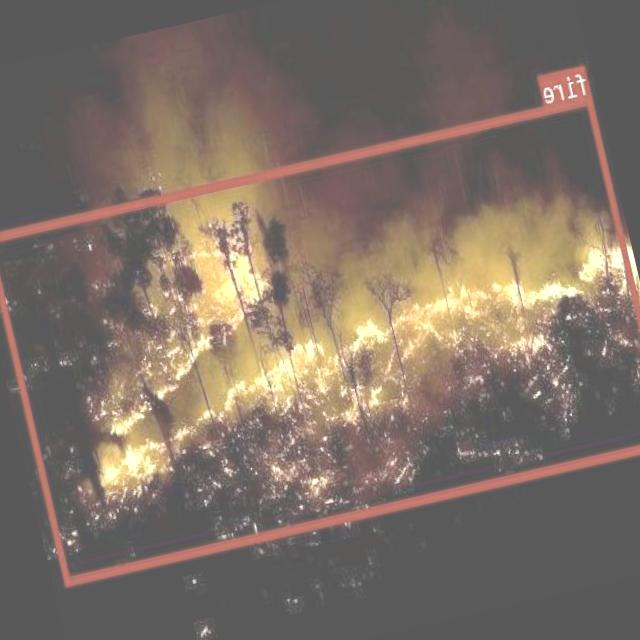fire: (0, 92, 640, 584)
